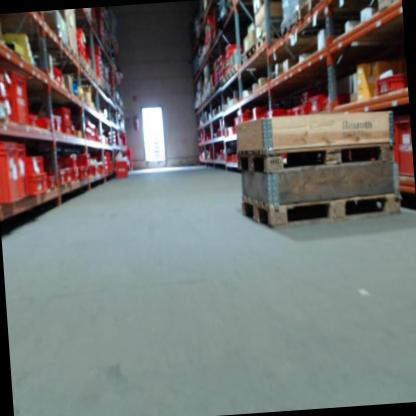pallet: (240, 184, 403, 232), (236, 140, 398, 178), (297, 0, 325, 21), (254, 33, 269, 52), (244, 46, 255, 61), (228, 63, 239, 77)
small_load_carrier: (0, 140, 32, 206), (7, 67, 34, 134), (390, 112, 414, 179), (26, 176, 54, 204), (373, 71, 407, 94), (322, 92, 353, 112), (25, 153, 47, 177), (306, 92, 324, 117), (34, 112, 53, 134), (57, 154, 81, 170), (49, 164, 64, 189), (113, 159, 131, 179), (266, 105, 292, 118), (293, 103, 312, 120), (58, 104, 74, 123), (45, 173, 58, 196), (61, 164, 72, 189), (69, 169, 82, 188), (0, 81, 9, 106), (0, 56, 8, 84), (59, 121, 71, 137)
